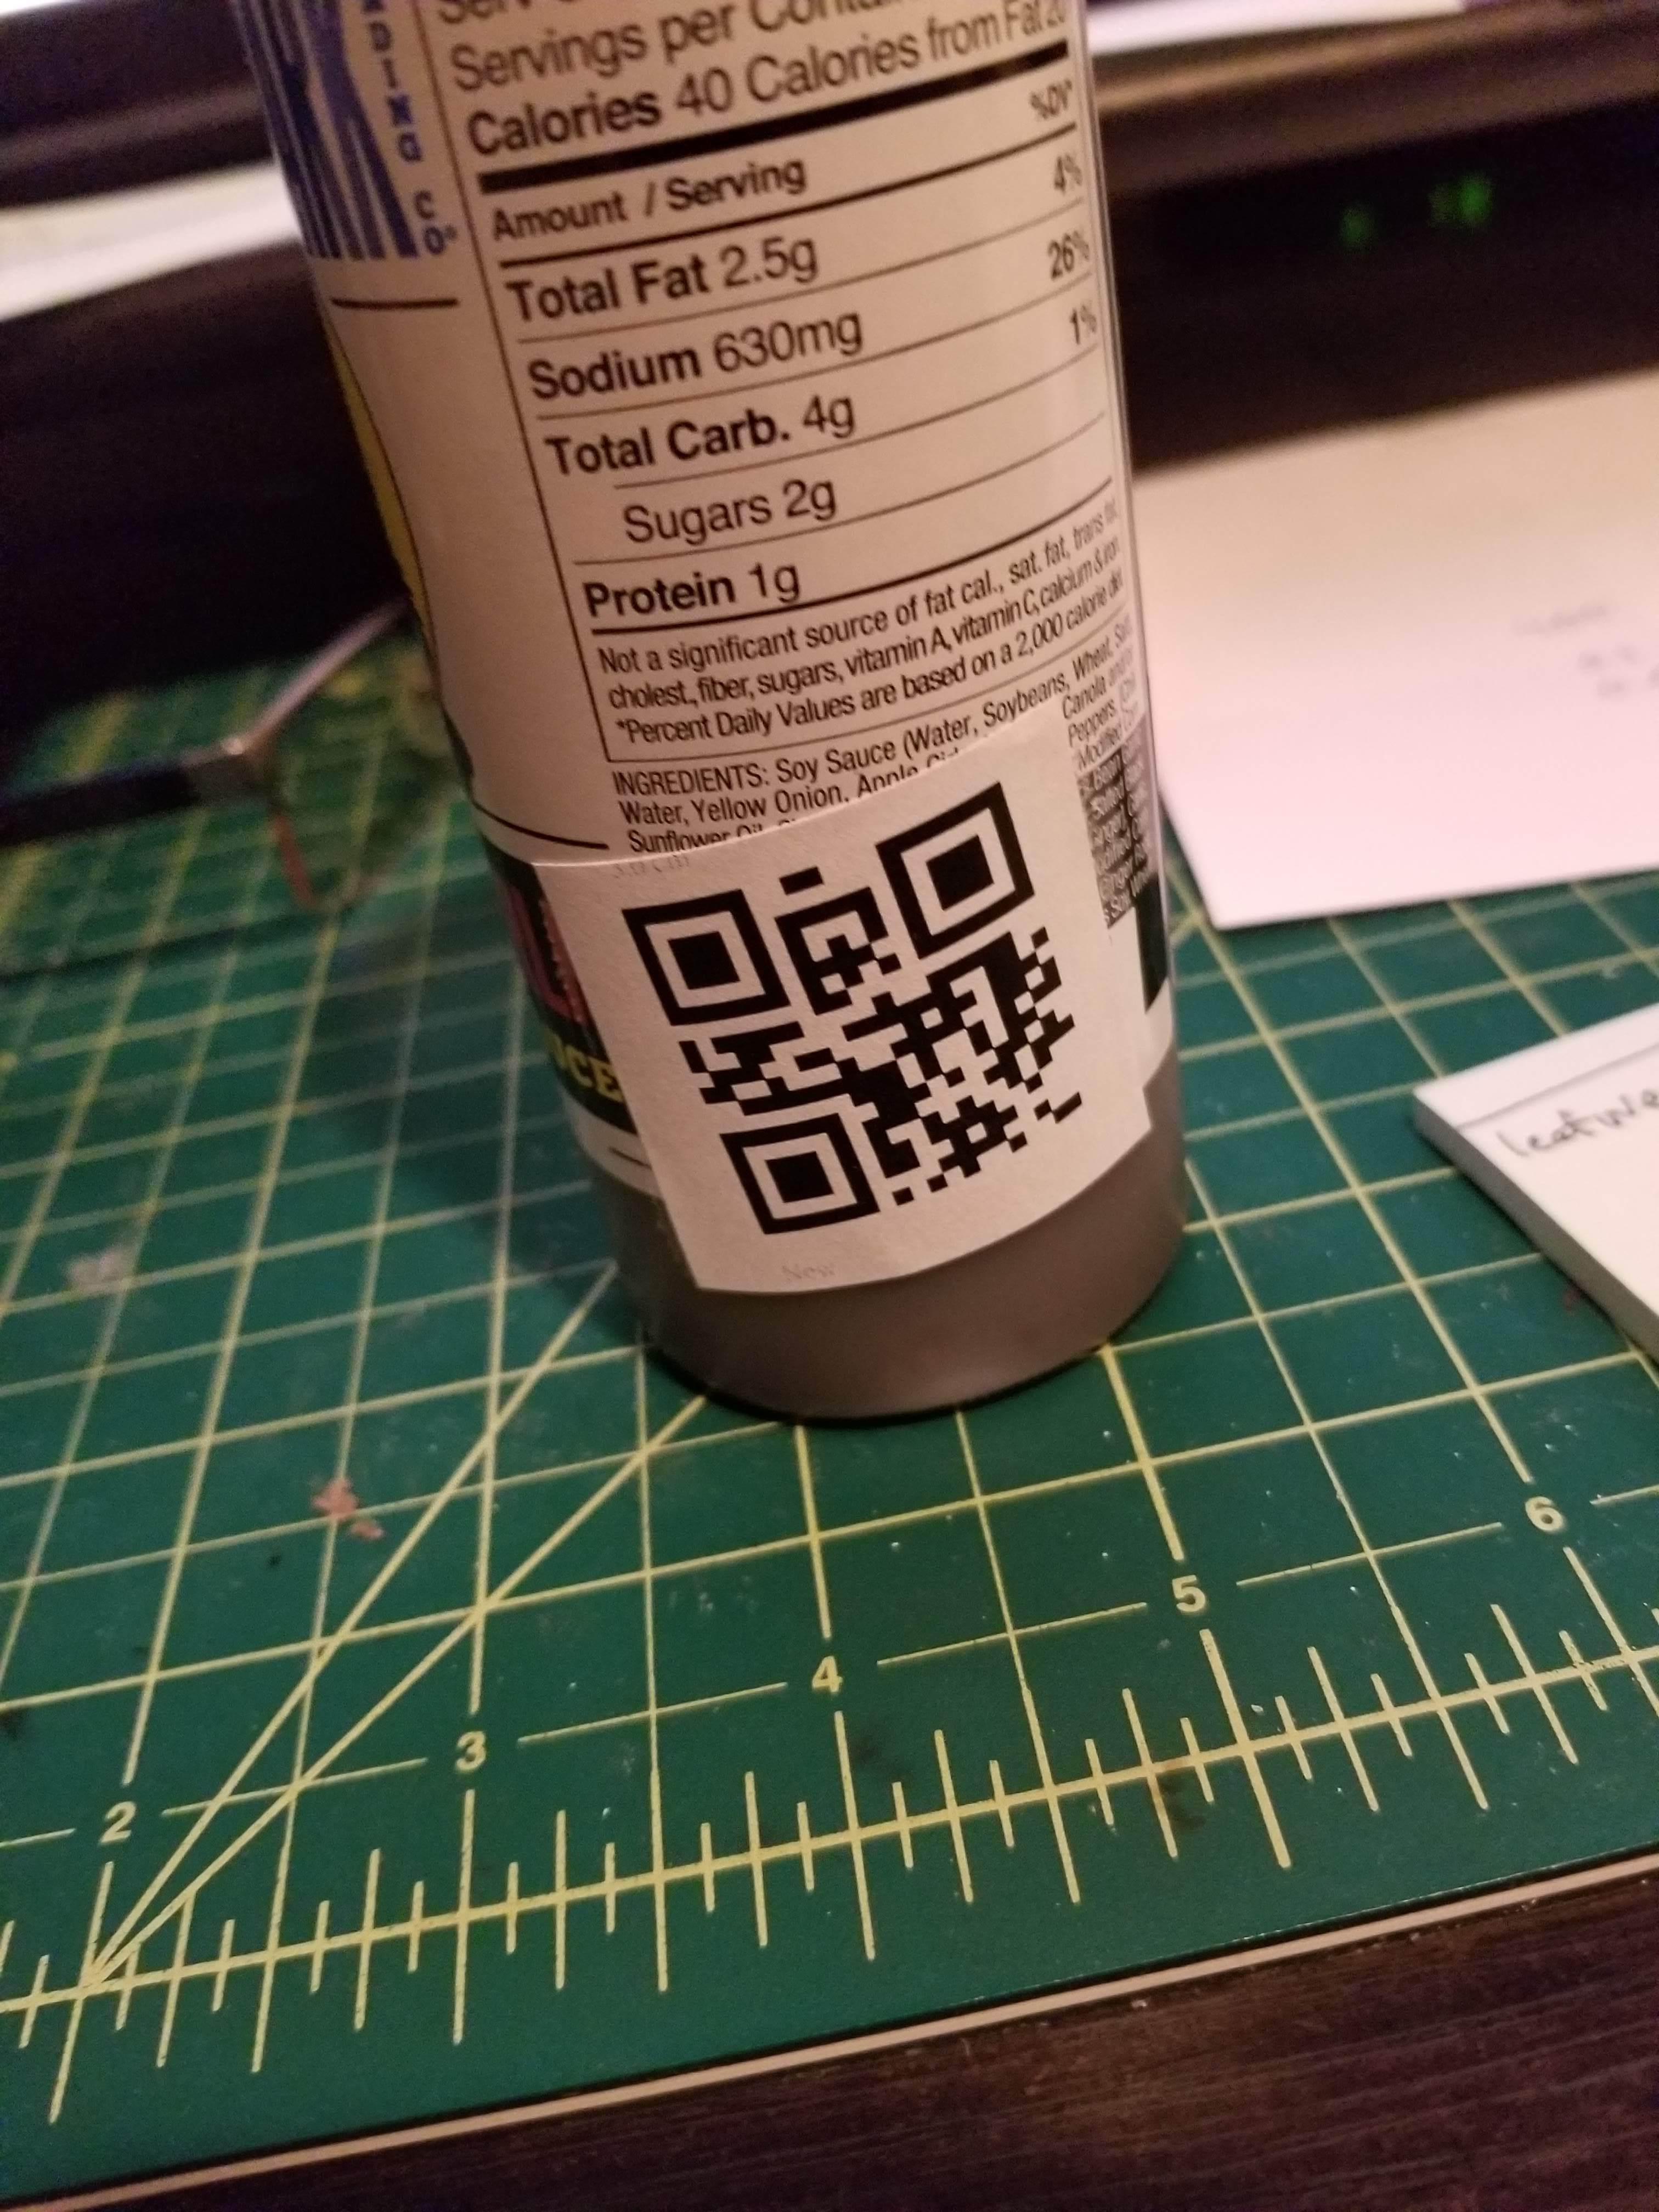QR_CODE: (599, 768, 1114, 1247)
